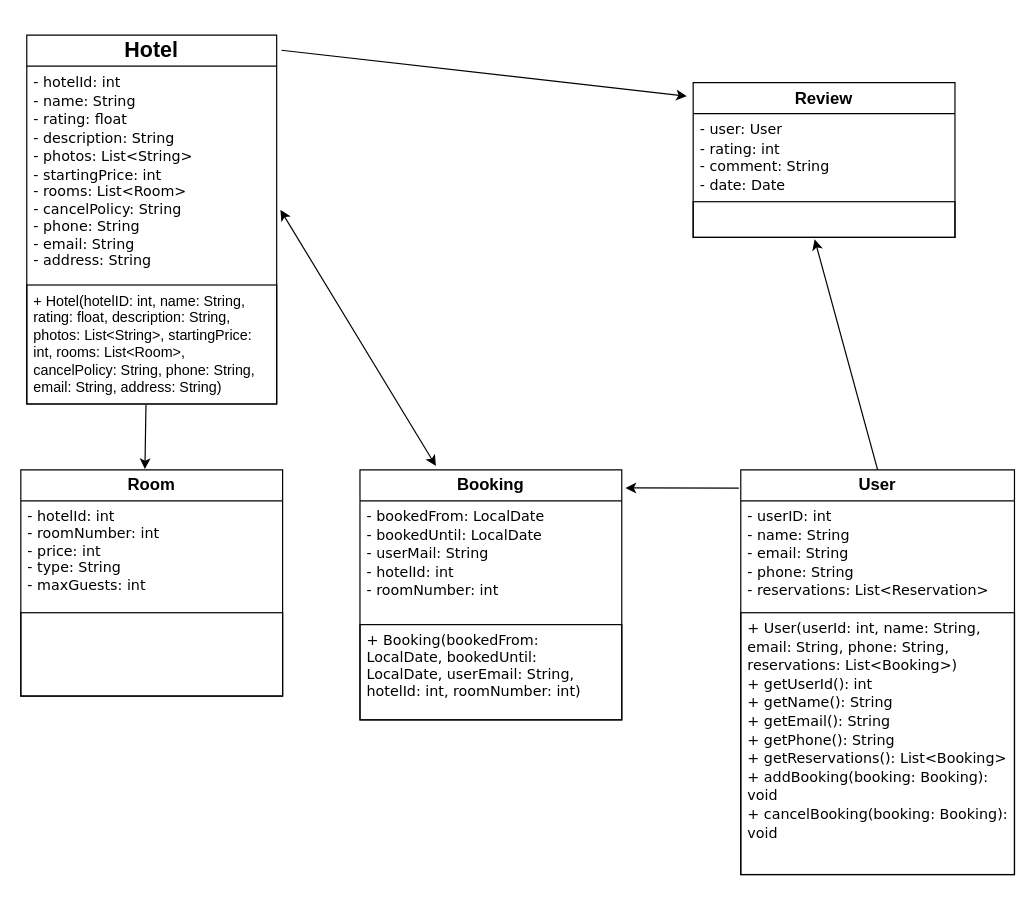
Image size: 1035x898. Some labels were removed from this diagram. The shapes that lost their labels are listed below. From the top down, each one's centre as x and y in pixels, then its label:
At point (823, 219): "+ submitReview(): boolean".
At point (151, 654): "+ Room(int hotelID, int roomNumber, int price, String type, int maxGuests)".
